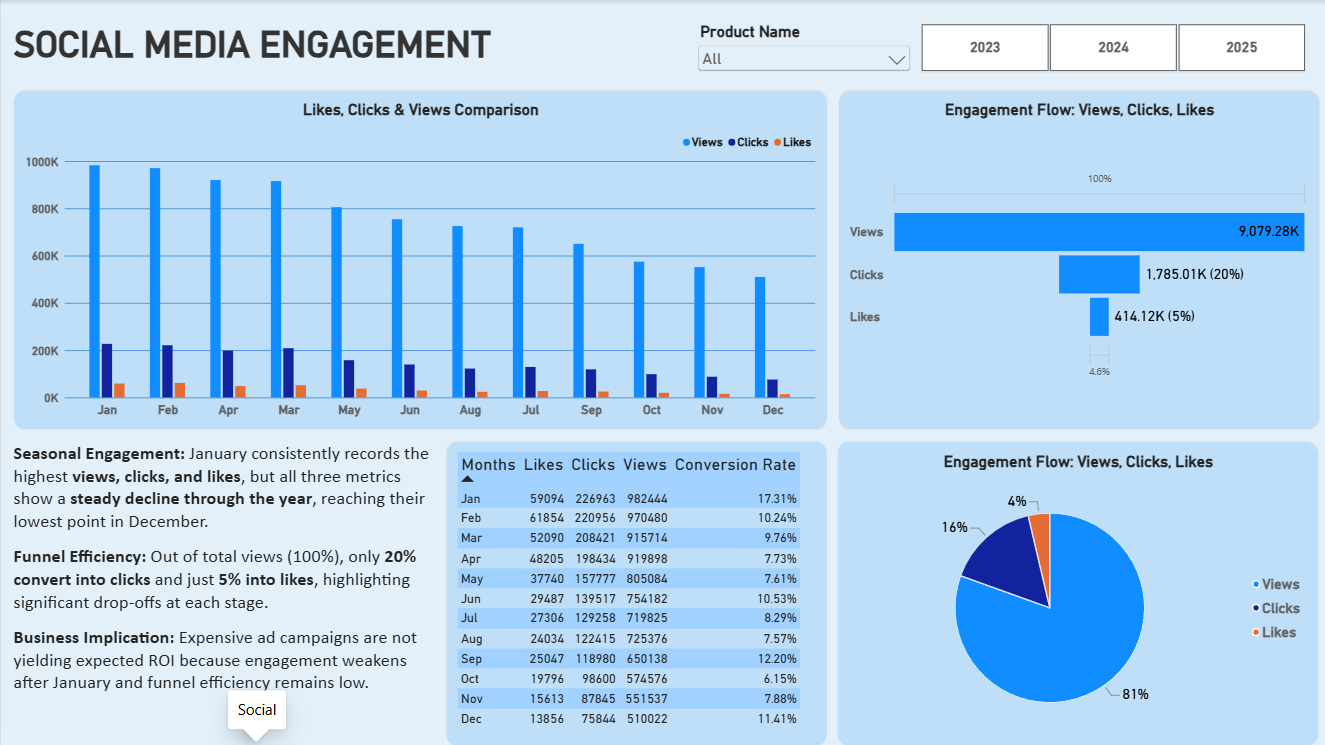

This screenshot's page, from the dashboard's own definition file:
{"tool":"powerbi","page":{"name":"Social ","canvas":[1920,1080],"ordinal":2},"visuals":[{"type":"textbox","box":[18.1,32.6,702.1,70.6],"z":0},{"type":"lineClusteredColumnComboChart","title":"Likes, Clicks & Views Comparison","fields":{"Category":["Calendar.MonthNameShort"],"Y":["_Calculation_.Views","_Calculation_.Clicks","_Calculation_.Likes"]},"box":[18.1,130.3,1178.1,492.2],"z":1000},{"type":"slicer","fields":{"Values":["Calendar.Date.Variation.Date Hierarchy.Year"]},"box":[1312,32.6,595.4,72.4],"z":2000},{"type":"funnel","title":"Engagement Flow: Views, Clicks, Likes","fields":{"Y":["_Calculation_.Views","_Calculation_.Clicks","_Calculation_.Likes"]},"box":[1212.5,130.3,696.7,492.2],"z":3000},{"type":"slicer","fields":{"Values":["Facts_products.ProductName"]},"box":[1004.4,32.6,316.7,72.4],"z":4000},{"type":"pieChart","title":"Engagement Flow: Views, Clicks, Likes","fields":{"Y":["_Calculation_.Views","_Calculation_.Clicks","_Calculation_.Likes"]},"box":[1210.7,638.8,696.7,441.6],"z":5000},{"type":"pivotTable","fields":{"Rows":["Calendar.MonthNameShort"],"Values":["_Calculation_.Likes","_Calculation_.Clicks","_Calculation_.Views","_Calculation_.Conversion Rate"]},"box":[644.2,638.8,551.9,441.6],"z":6000},{"type":"textbox","box":[18.1,638.8,608,441.6],"z":7000}]}

Visuals, with their boxes in screenshot pixels (x1, y1, x2, y2), scaled from the page's 1920x1080 canvas onto the 1325x745 screenshot:
textbox: pyautogui.locateOnScreen(12, 22, 497, 71)
"Likes, Clicks & Views Comparison" lineClusteredColumnComboChart: pyautogui.locateOnScreen(12, 90, 826, 429)
slicer - Calendar.Date.Variation.Date Hierarchy.Year: pyautogui.locateOnScreen(905, 22, 1316, 72)
"Engagement Flow: Views, Clicks, Likes" funnel: pyautogui.locateOnScreen(837, 90, 1318, 429)
slicer - Facts_products.ProductName: pyautogui.locateOnScreen(693, 22, 912, 72)
"Engagement Flow: Views, Clicks, Likes" pieChart: pyautogui.locateOnScreen(836, 441, 1316, 744)
pivotTable - Calendar.MonthNameShort x _Calculation_.Likes: pyautogui.locateOnScreen(445, 441, 825, 744)
textbox: pyautogui.locateOnScreen(12, 441, 432, 744)
